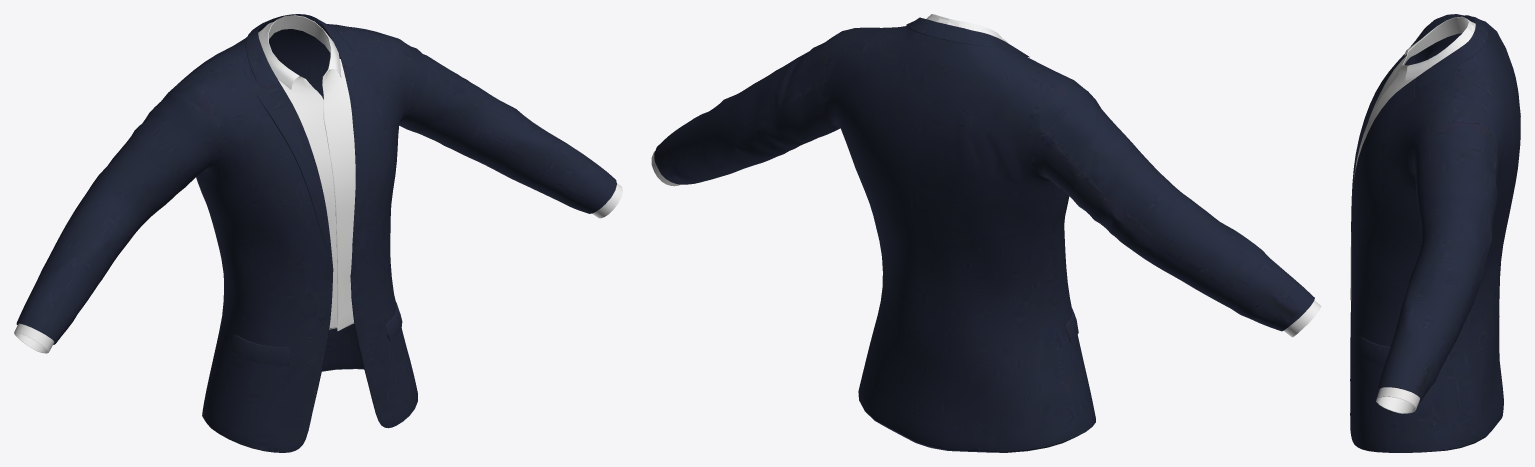
File: suit_jacket.glb
The picture shows the model from 3 angles, left to right: view 1: azimuth 30°, elevation 25°; view 2: azimuth 150°, elevation 25°; view 3: azimuth 270°, elevation 25°; orthographic projection. The views are drawn at different scales.
Visible parts, largest first — view 1: defaultMaterial; view 2: defaultMaterial; view 3: defaultMaterial.
Part boxes in pixels (<box>): defaultMaterial: <box>14,14,622,452</box>; defaultMaterial: <box>651,14,1321,452</box>; defaultMaterial: <box>1350,14,1520,452</box>.
Size of the model in its own units: 2 by 1.21 by 0.4766.
1 material, 1 textured.
